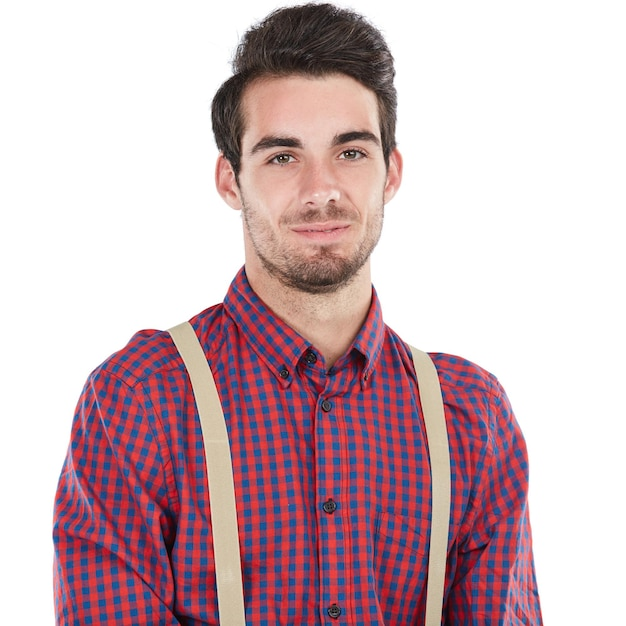young: (211, 21, 409, 278)
